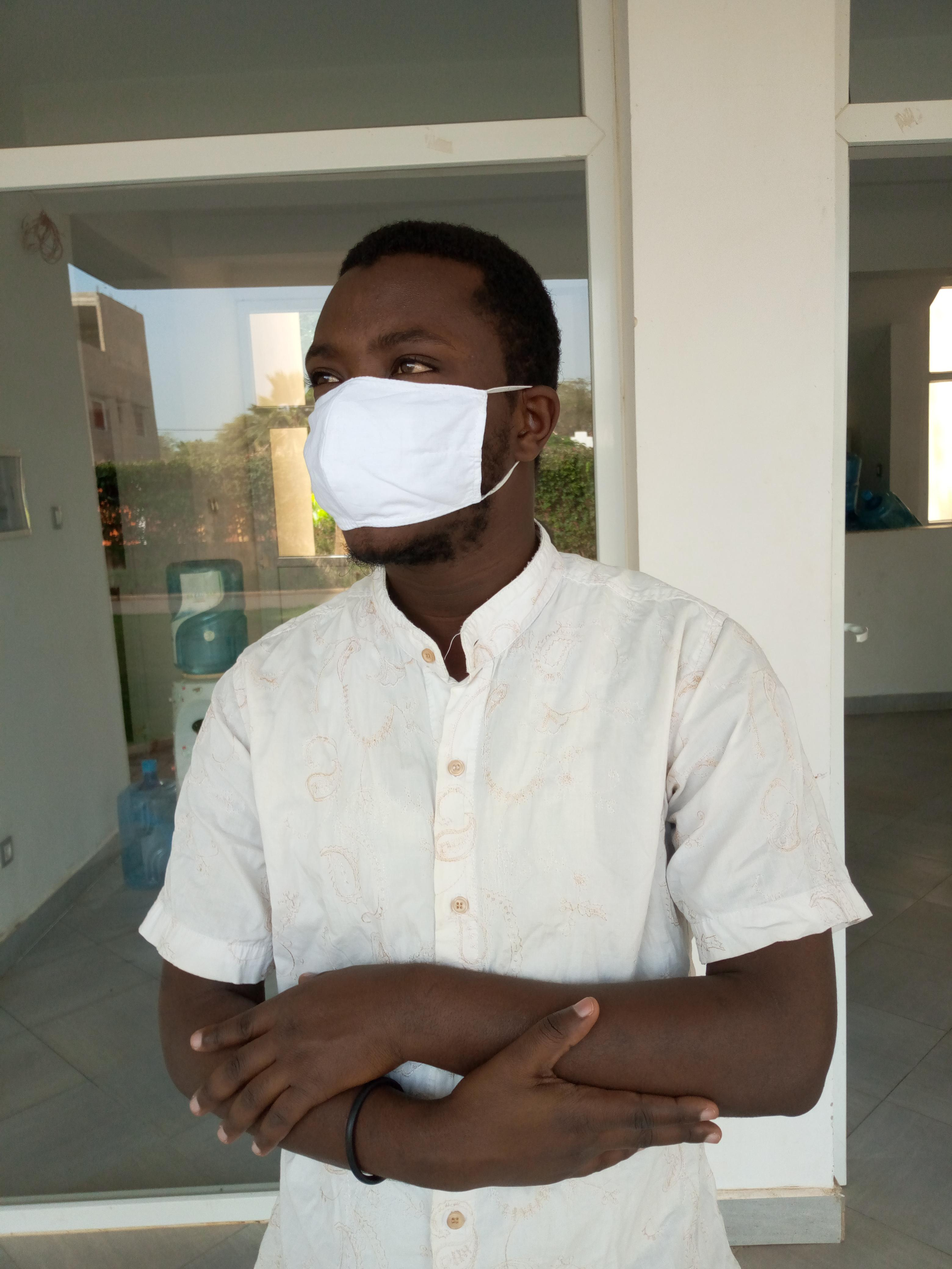Wearing Mask: (151, 68, 626, 617)
